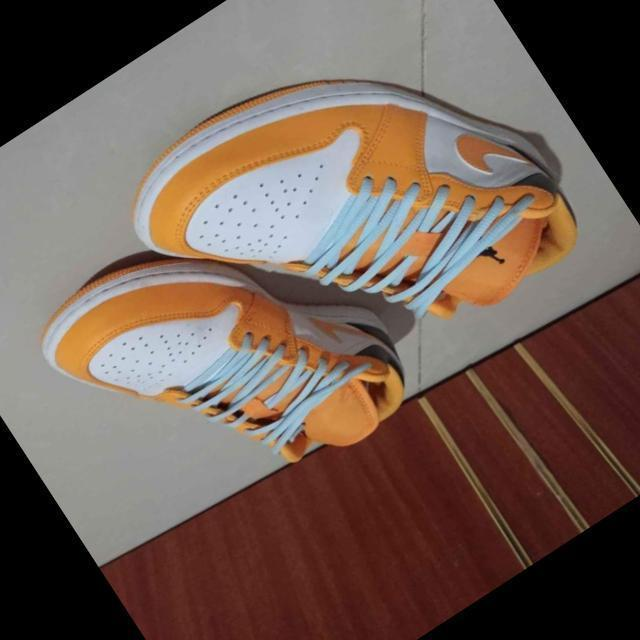nike original jordan 1: (99, 0, 599, 450), (22, 158, 430, 560)
